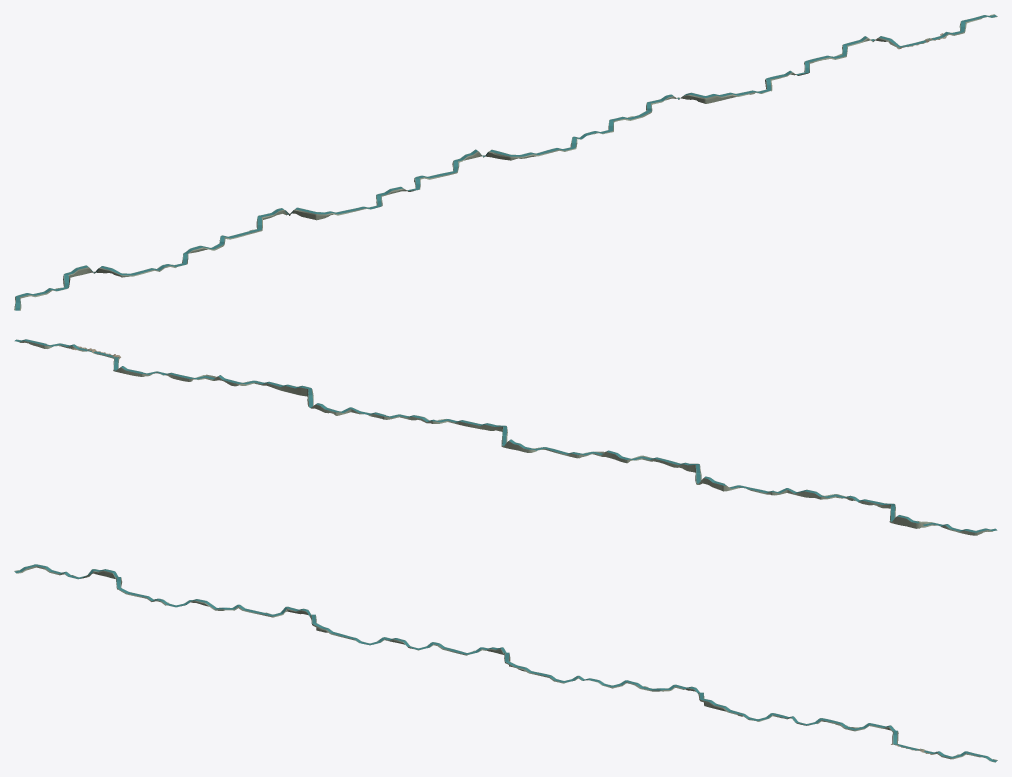
Rendered from river.glb.
3 renders of one model, top to bottom at view 1: azimuth 30°, elevation 25°; view 2: azimuth 150°, elevation 25°; view 3: azimuth 330°, elevation 25°, orthographic. The views are drawn at different scales.
Size of the model in its own units: 360 by 2.94 by 39.2.
